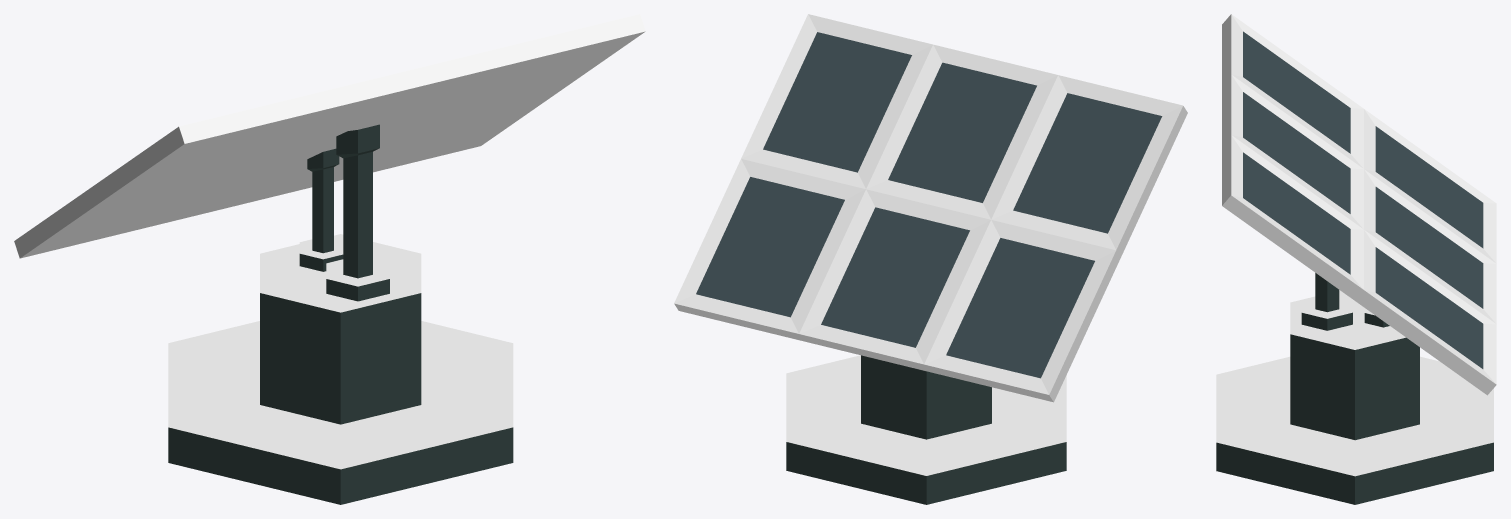
File: Model_Frost_2x2A.fbx
3 renders of one model, left to right at view 1: azimuth 30°, elevation 25°; view 2: azimuth 150°, elevation 25°; view 3: azimuth 270°, elevation 25°, orthographic. The views are drawn at different scales.
Parts seen in each view (by area): view 1: xueshan_taiyangneng_2_2; view 2: xueshan_taiyangneng_2_2; view 3: xueshan_taiyangneng_2_2.
Boxes of the visible parts, box(x1,y1,x2,y2) form: xueshan_taiyangneng_2_2: box(14, 14, 645, 504); xueshan_taiyangneng_2_2: box(674, 14, 1187, 504); xueshan_taiyangneng_2_2: box(1216, 14, 1496, 504).
Bounding box in the file's own units: 393 × 333 × 257.
1 material, 1 textured.
